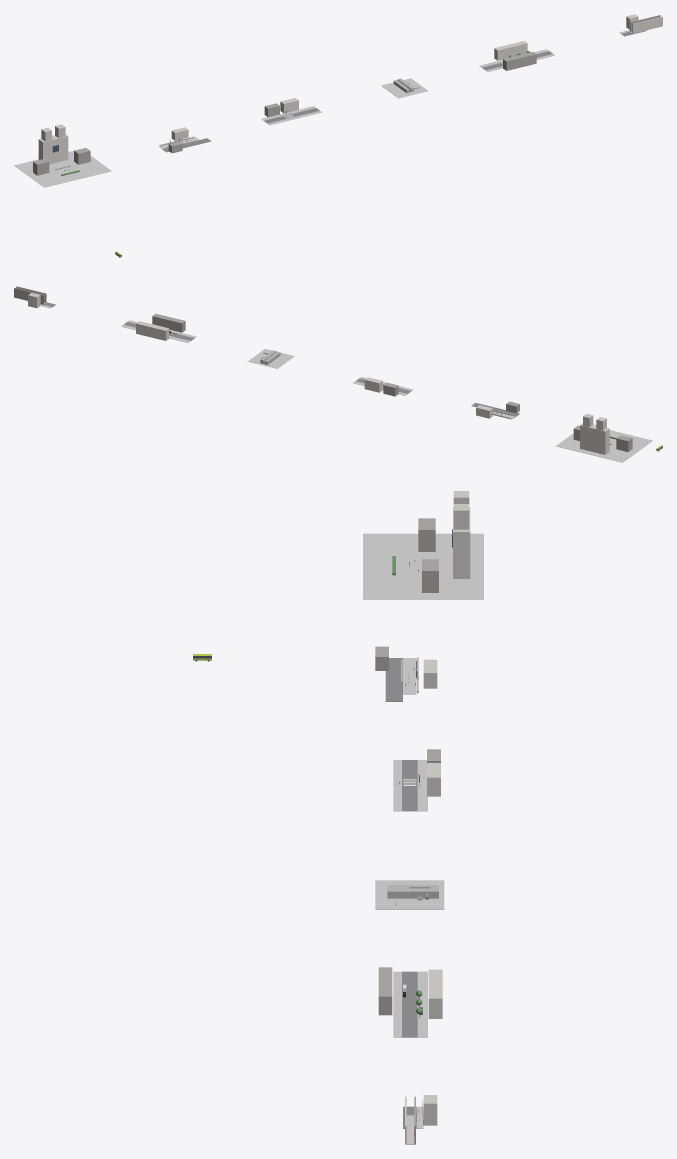
3 renders of one model, top to bottom at view 1: azimuth 30°, elevation 25°; view 2: azimuth 150°, elevation 25°; view 3: azimuth 270°, elevation 25°, orthographic. The views are drawn at different scales.
Parts seen in each view (by area): view 1: S01_ground, S01_cathed, S05_houseN, S05_houseS, S04_groundLow; view 2: S01_ground, S01_cathed, S05_houseN, S05_houseS, S04_groundLow; view 3: S01_ground, S04_groundLow, S05_road, S01_cathed.
Boxes of the visible parts, bbox=[...] form: S01_ground: bbox=[14, 151, 111, 187]; S01_cathed: bbox=[38, 134, 68, 164]; S05_houseN: bbox=[494, 41, 527, 60]; S05_houseS: bbox=[503, 52, 536, 70]; S04_groundLow: bbox=[381, 78, 427, 98]; S01_ground: bbox=[556, 430, 652, 462]; S01_cathed: bbox=[580, 423, 609, 454]; S05_houseN: bbox=[136, 321, 169, 340]; S05_houseS: bbox=[152, 313, 185, 332]; S04_groundLow: bbox=[248, 349, 294, 368]; S01_ground: bbox=[363, 533, 483, 599]; S04_groundLow: bbox=[375, 880, 444, 909]; S05_road: bbox=[402, 971, 417, 1037]; S01_cathed: bbox=[453, 507, 470, 578].
Size of the model in its own units: 837 by 102 by 169.
